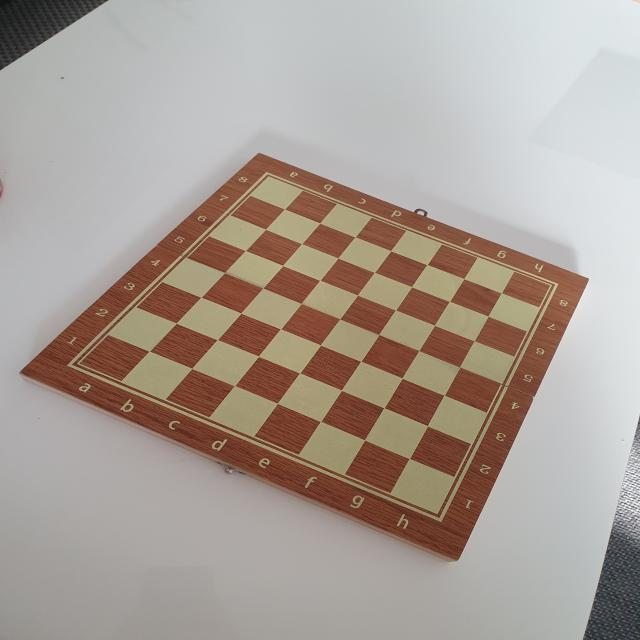chess-table-corners: (59, 356, 88, 374), (426, 508, 451, 528), (542, 276, 566, 294), (256, 167, 278, 183)
